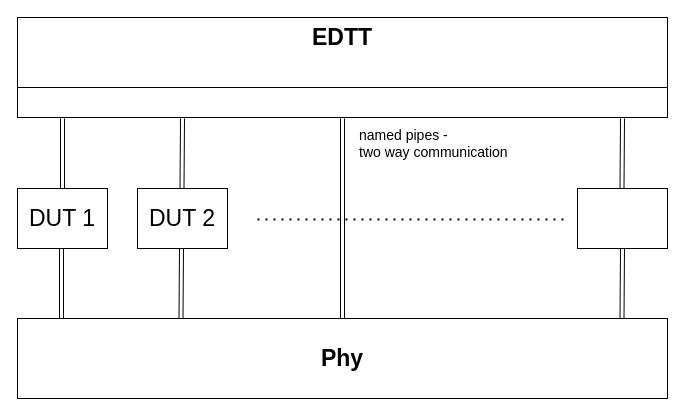
Some shapes in this 685 by 416 pixel diagram are drawn without their labels. The shapes that lost their labels are listed below. From the top down, each one's centre as x and y in pixels, then its label:
At point 342,102: "EDTTT_bsim: bsim transport".
At point 622,218: "DUT N".
